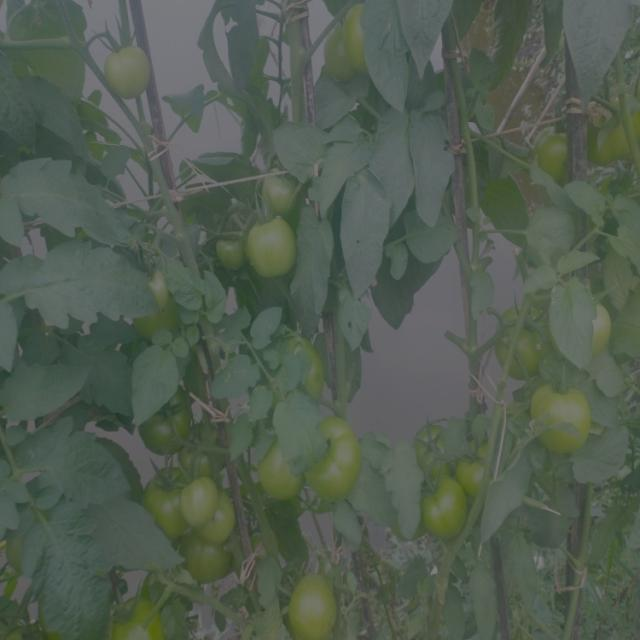tomato: (306, 419, 371, 508), (533, 382, 604, 455), (96, 30, 162, 107), (281, 564, 347, 640), (122, 253, 180, 331), (564, 292, 625, 365), (248, 212, 304, 287), (139, 393, 202, 457), (414, 475, 473, 541), (589, 94, 638, 171), (255, 439, 309, 506), (335, 7, 387, 75), (531, 119, 583, 186), (141, 475, 190, 544), (495, 316, 545, 380), (180, 531, 236, 585), (110, 596, 169, 640), (296, 337, 333, 401), (257, 162, 307, 209), (457, 452, 495, 503), (213, 228, 247, 282), (206, 492, 241, 544), (413, 428, 445, 470), (190, 473, 214, 524)
